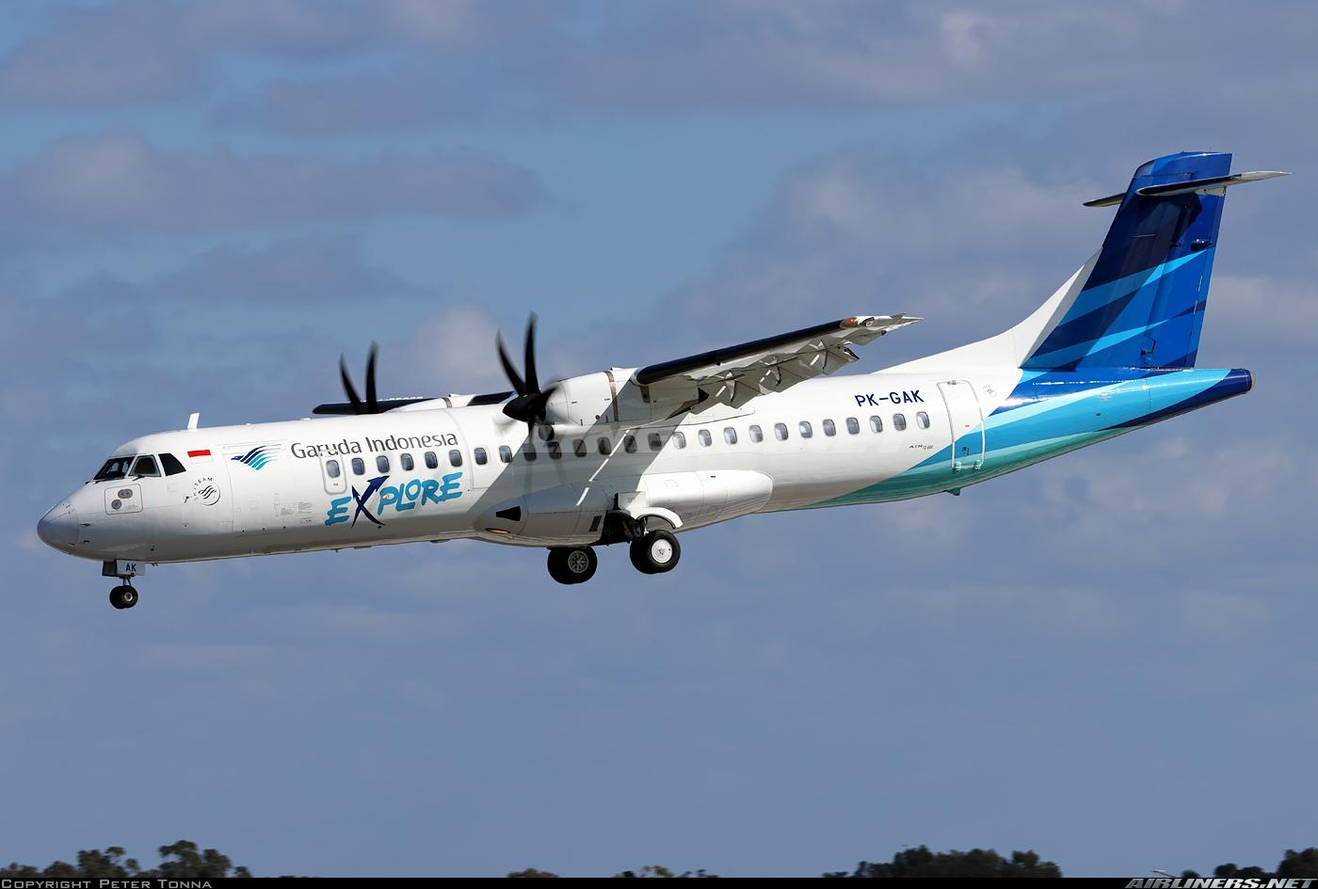aircraft: (16, 145, 1277, 586)
